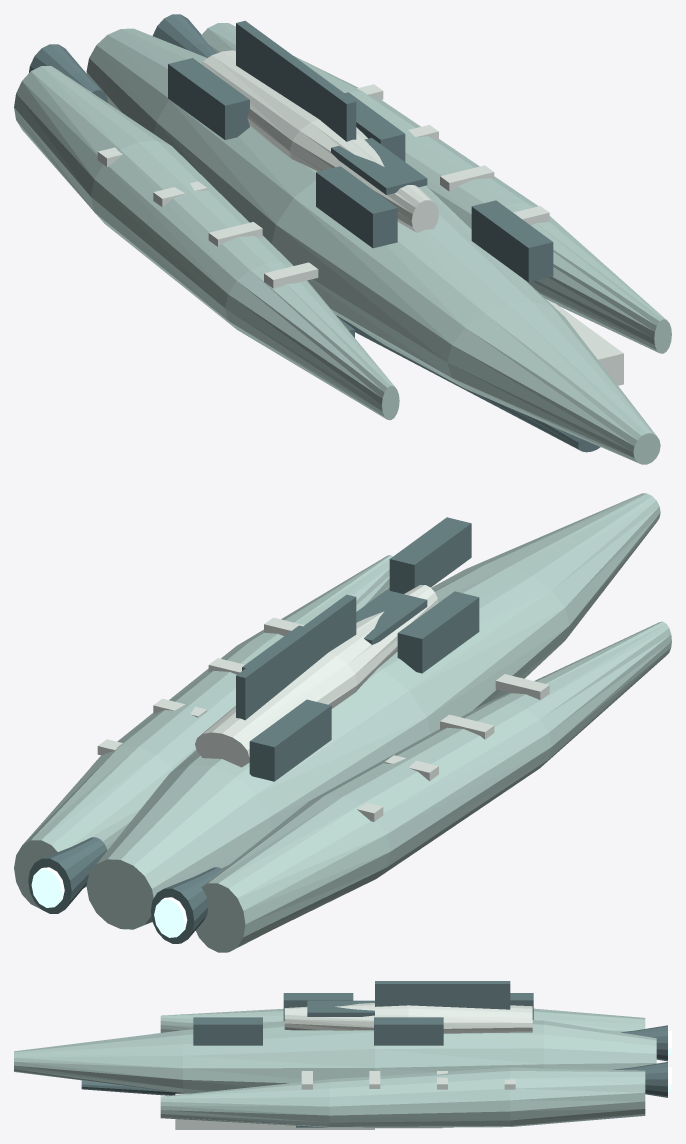
3 renders of one model, top to bottom at view 1: azimuth 30°, elevation 25°; view 2: azimuth 150°, elevation 25°; view 3: azimuth 270°, elevation 25°, orthographic. The views are drawn at different scales.
Bounding box in the file's own units: 7.94 × 4.62 × 22.67.
